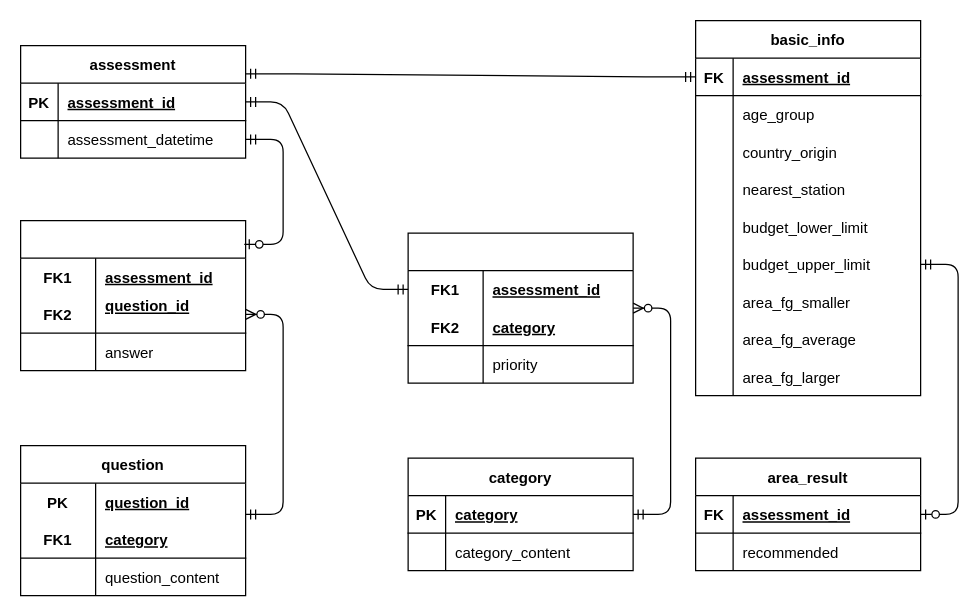
Some shapes in this 979 by 616 pixel diagram are drawn without their labels. The box of each missing label's shape, as (x1, y1, x2, y2) in pixels:
assessment_answer: (19, 219, 246, 371)
assessment_result: (407, 232, 633, 383)
